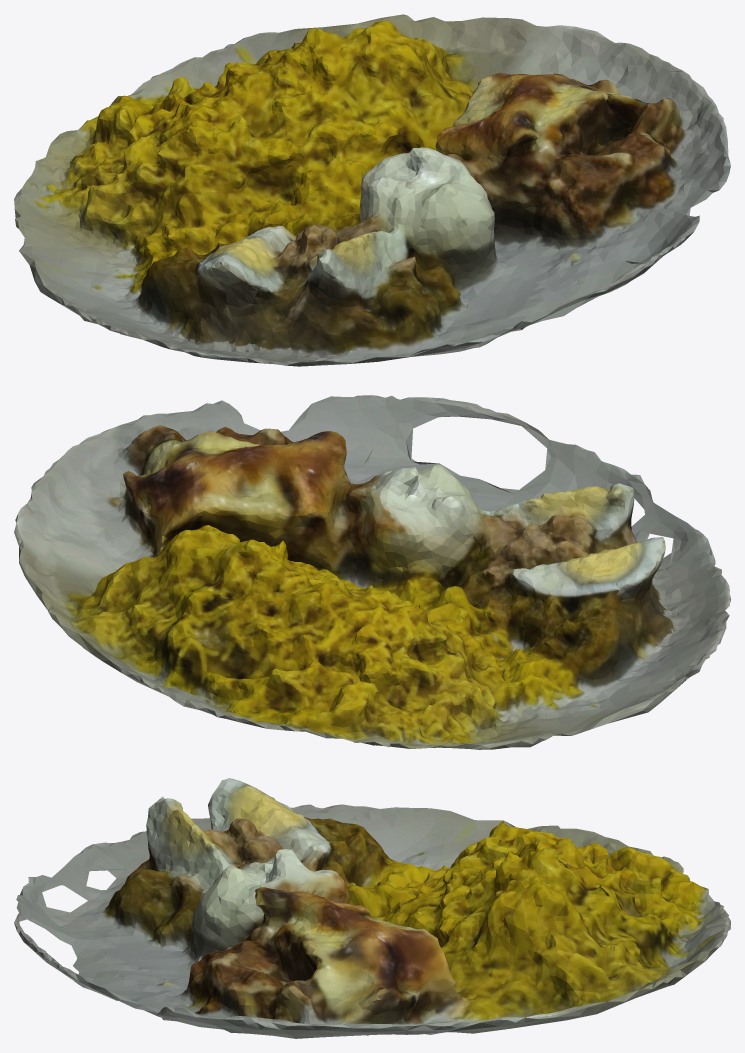
File: plat-mixte.glb
3 views of the same model, one above another, from view 1: azimuth 30°, elevation 25°; view 2: azimuth 150°, elevation 25°; view 3: azimuth 270°, elevation 25° (orthographic).
Bounding box in the file's own units: 1.19 × 0.2785 × 1.2.
1 material, 1 textured.
